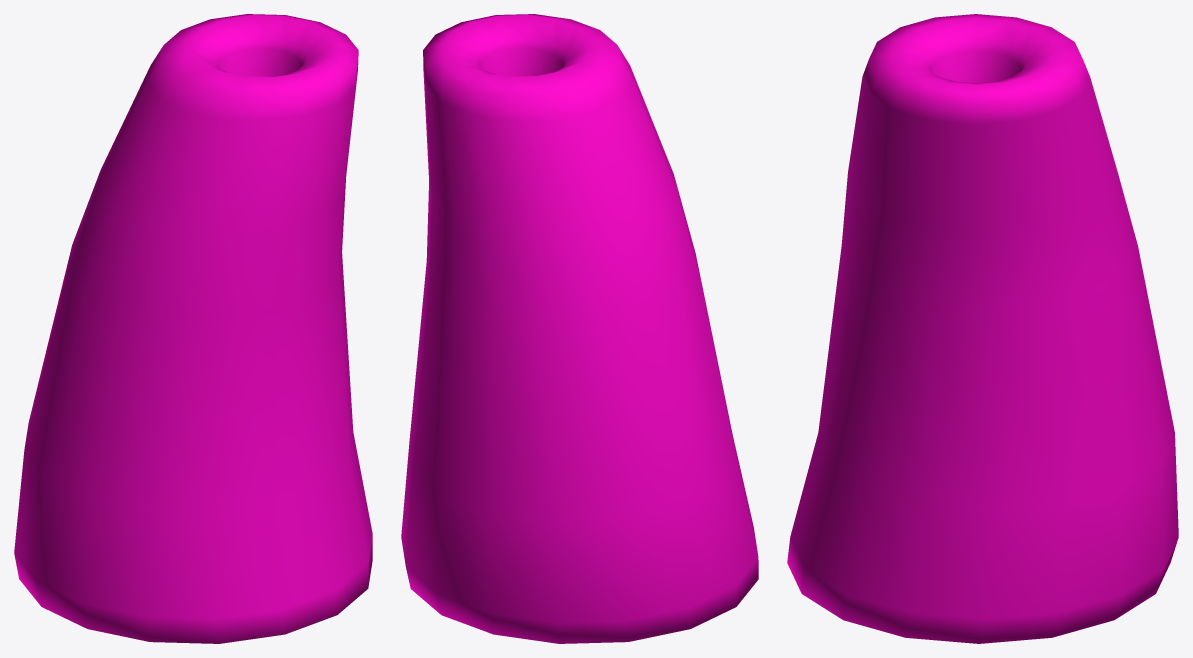
3 views of the same model, side by side, from view 1: azimuth 30°, elevation 25°; view 2: azimuth 150°, elevation 25°; view 3: azimuth 270°, elevation 25° (orthographic). The views are drawn at different scales.
Parts seen in each view (by area): view 1: Tube_02_low; view 2: Tube_02_low; view 3: Tube_02_low.
Boxes of the visible parts, left/top/right/bottom form: Tube_02_low: left=14, top=14, right=372, bottom=643; Tube_02_low: left=401, top=14, right=758, bottom=643; Tube_02_low: left=787, top=14, right=1178, bottom=643.
Bounding box in the file's own units: 14.74 × 23.23 × 14.86.
